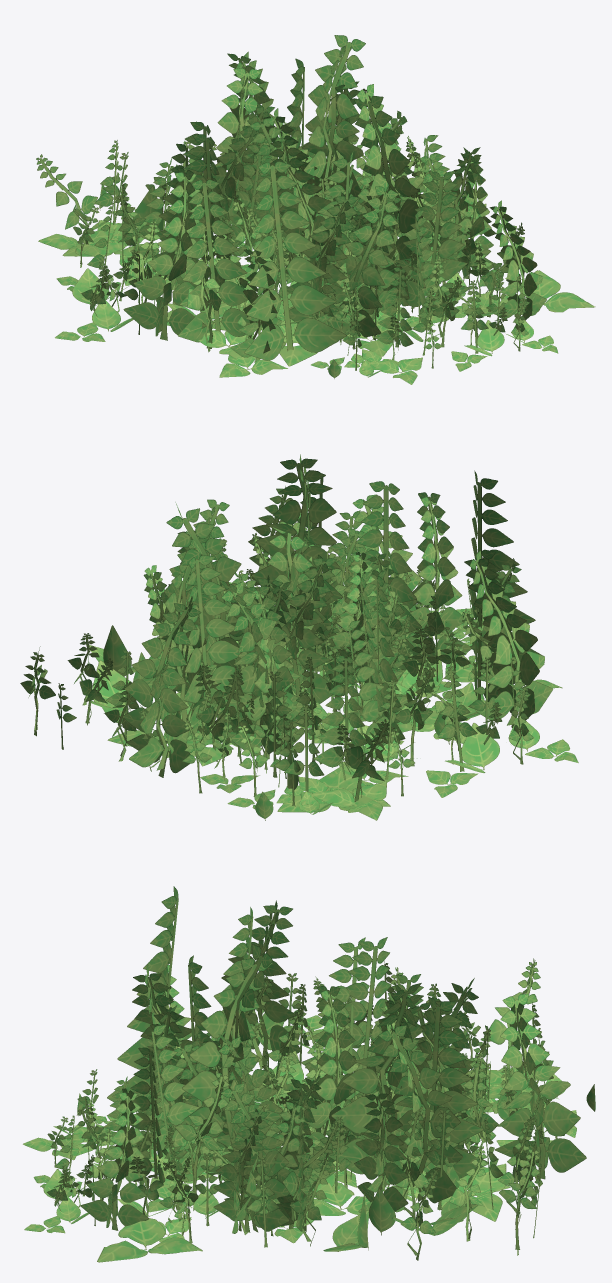
Rendered from LeafSetB_21.fbx.
3 views of the same model, one above another, from view 1: azimuth 30°, elevation 25°; view 2: azimuth 150°, elevation 25°; view 3: azimuth 270°, elevation 25° (orthographic). The views are drawn at different scales.
Parts seen in each view (by area): view 1: LeafSetB_21; view 2: LeafSetB_21; view 3: LeafSetB_21.
Part boxes in pixels (x1=…): LeafSetB_21: x1=36, y1=35, x2=595, y2=384; LeafSetB_21: x1=20, y1=454, x2=578, y2=820; LeafSetB_21: x1=23, y1=886, x2=595, y2=1262.
Bounding box in the file's own units: 2.79 × 1.37 × 2.78.
